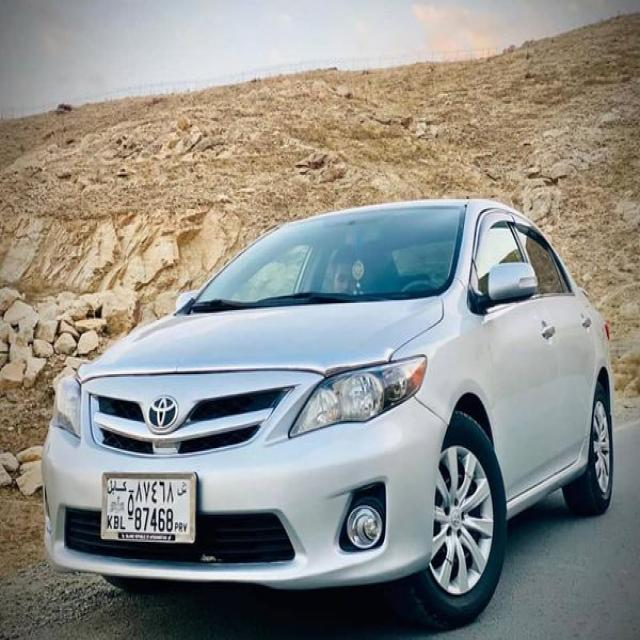Plate: (100, 471, 196, 545)
